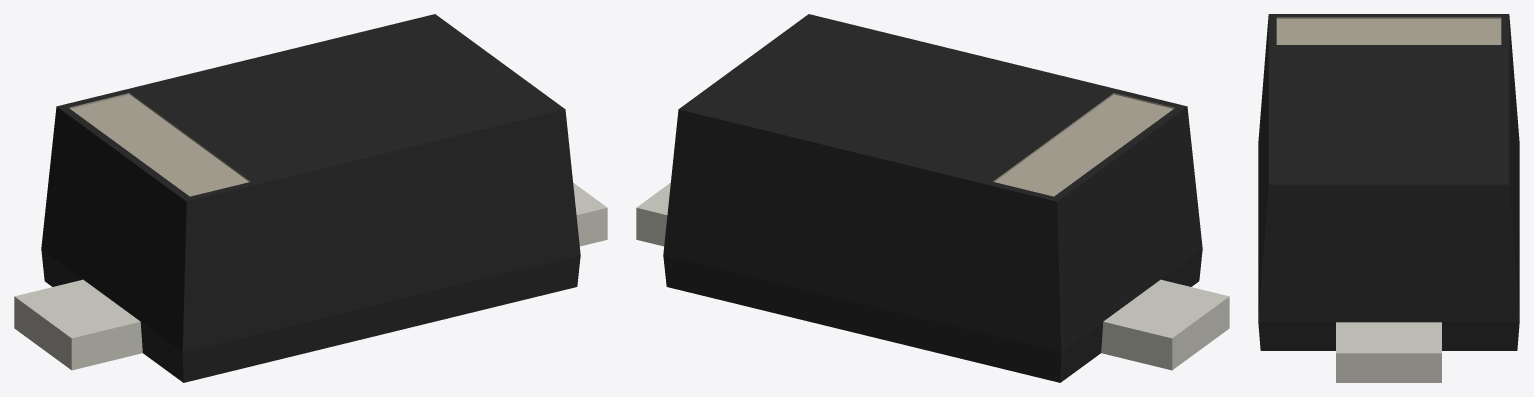
File: D_SOD-123F.glb
3 renders of one model, left to right at view 1: azimuth 30°, elevation 25°; view 2: azimuth 150°, elevation 25°; view 3: azimuth 270°, elevation 25°, orthographic. The views are drawn at different scales.
Parts seen in each view (by area): view 1: =>[0:1:1:3]; view 2: =>[0:1:1:3]; view 3: =>[0:1:1:3].
Boxes of the visible parts, x1,y1,x2,y2 form: =>[0:1:1:3]: (14,14,607,382); =>[0:1:1:3]: (636,14,1229,382); =>[0:1:1:3]: (1258,14,1519,382).
Size of the model in its own units: 0.0035 by 0.0011 by 0.0016.
